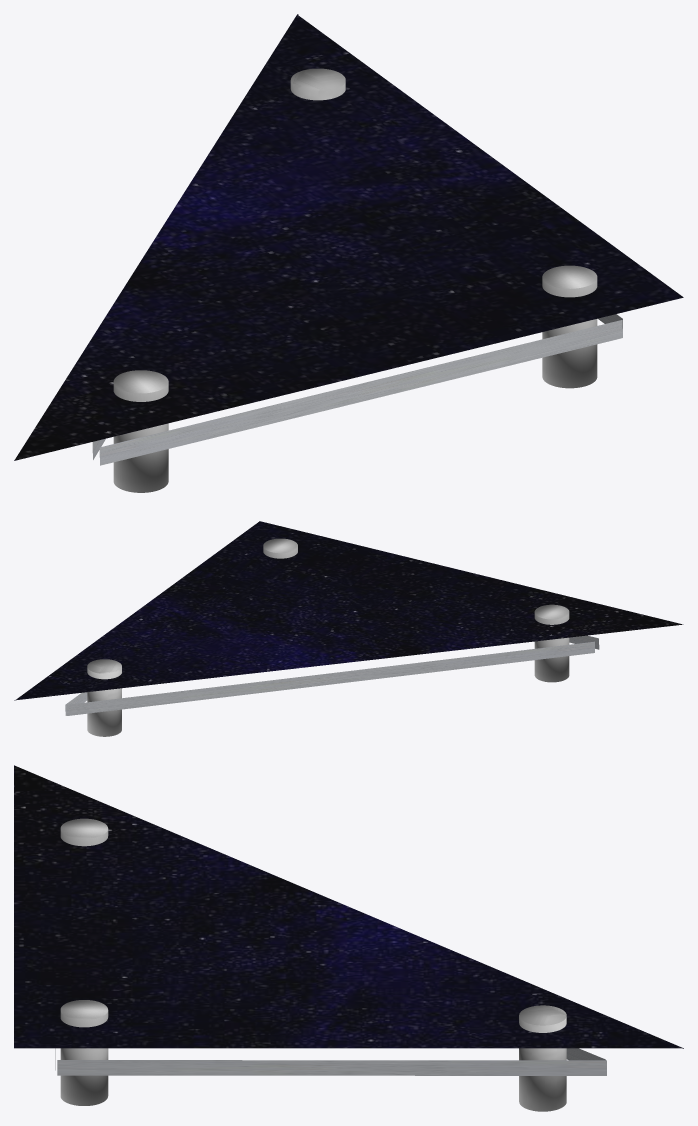
Rendered from triangleBumpers.obj.
3 views of the same model, one above another, from view 1: azimuth 30°, elevation 25°; view 2: azimuth 150°, elevation 25°; view 3: azimuth 270°, elevation 25° (orthographic). The views are drawn at different scales.
Parts seen in each view (by area): view 1: Plane, Plane.002, Cylinder.001, Cylinder, Cylinder.002; view 2: Plane, Plane.001, Cylinder.002, Cylinder, Cylinder.001; view 3: Plane, Plane.003, Cylinder.002, Cylinder.001, Cylinder.
Boxes of the visible parts, x1=… form: Plane: x1=14, y1=14, x2=683, y2=460; Plane.002: x1=99, y1=320, x2=622, y2=465; Cylinder.001: x1=542, y1=265, x2=597, y2=388; Cylinder: x1=113, y1=370, x2=168, y2=492; Cylinder.002: x1=290, y1=68, x2=345, y2=100; Plane: x1=14, y1=521, x2=683, y2=700; Plane.001: x1=66, y1=641, x2=594, y2=715; Cylinder.002: x1=87, y1=659, x2=121, y2=736; Cylinder: x1=534, y1=604, x2=569, y2=682; Cylinder.001: x1=263, y1=538, x2=297, y2=558; Plane: x1=14, y1=765, x2=683, y2=1048; Plane.003: x1=57, y1=1060, x2=606, y2=1075; Cylinder.002: x1=519, y1=1005, x2=566, y2=1111; Cylinder.001: x1=60, y1=1000, x2=108, y2=1105; Cylinder: x1=60, y1=818, x2=108, y2=846.
Bounding box in the file's own units: 2 × 0.2838 × 2.
